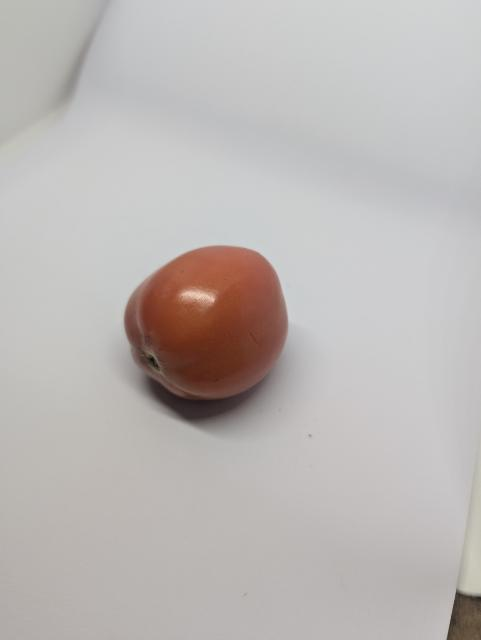red: (121, 236, 295, 411)
